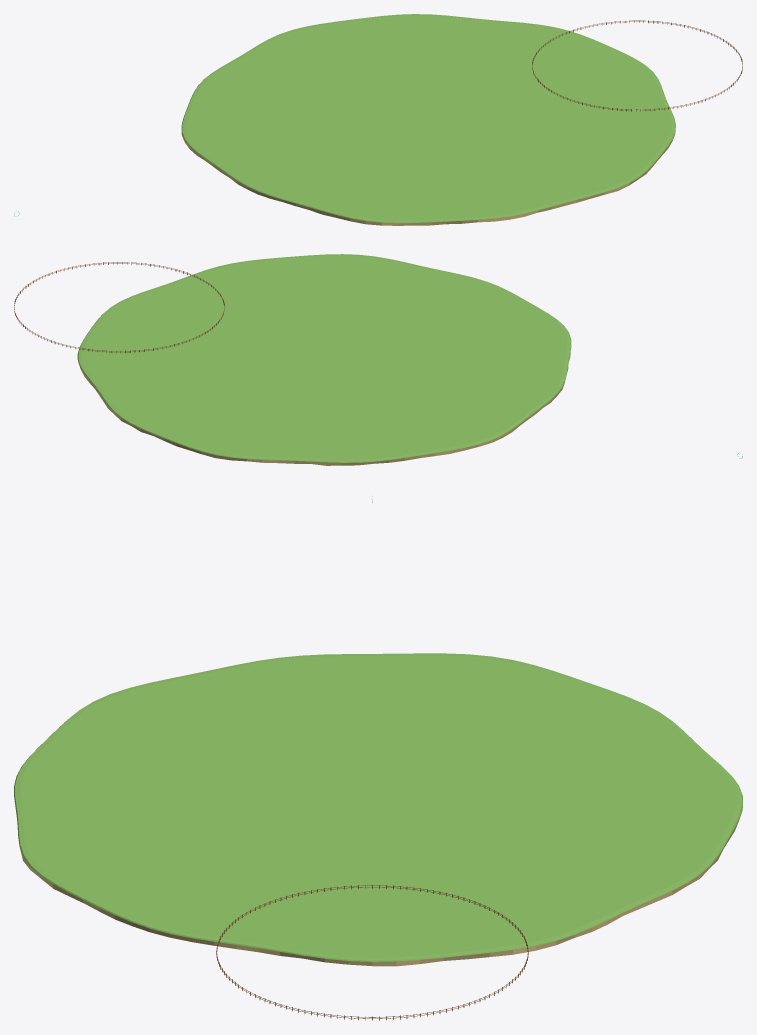
File: ZooKit_Race_v2.glb
3 renders of one model, top to bottom at view 1: azimuth 30°, elevation 25°; view 2: azimuth 150°, elevation 25°; view 3: azimuth 270°, elevation 25°, orthographic. The views are drawn at different scales.
Parts seen in each view (by area): view 1: MapGround__meadow, MapGround__earth, MapGround__meadowDark, BorderFence__wood, MapGround__sandDark, BorderFence__woodDark; view 2: MapGround__meadow, MapGround__earth, MapGround__meadowDark, BorderFence__wood, MapGround__sandDark, BorderFence__woodDark; view 3: MapGround__meadow, MapGround__earth, MapGround__meadowDark, BorderFence__wood, MapGround__sandDark.
Part boxes in pixels (box(x1,y1,x2,y2)): MapGround__meadow: box(182, 14, 675, 222); MapGround__earth: box(181, 133, 672, 225); MapGround__meadowDark: box(181, 70, 675, 223); BorderFence__wood: box(532, 20, 742, 110); MapGround__sandDark: box(184, 133, 675, 225); BorderFence__woodDark: box(532, 20, 742, 111); MapGround__meadow: box(78, 254, 570, 461); MapGround__earth: box(78, 353, 570, 465); MapGround__meadowDark: box(77, 314, 571, 462); BorderFence__wood: box(14, 262, 224, 352); MapGround__sandDark: box(84, 367, 568, 465); BorderFence__woodDark: box(14, 262, 224, 352); MapGround__meadow: box(15, 653, 741, 960); MapGround__earth: box(16, 807, 742, 966); MapGround__meadowDark: box(14, 722, 742, 961); BorderFence__wood: box(216, 885, 528, 1018); MapGround__sandDark: box(20, 817, 739, 966).
Bounding box in the file's own units: 1382 × 109 × 824.
